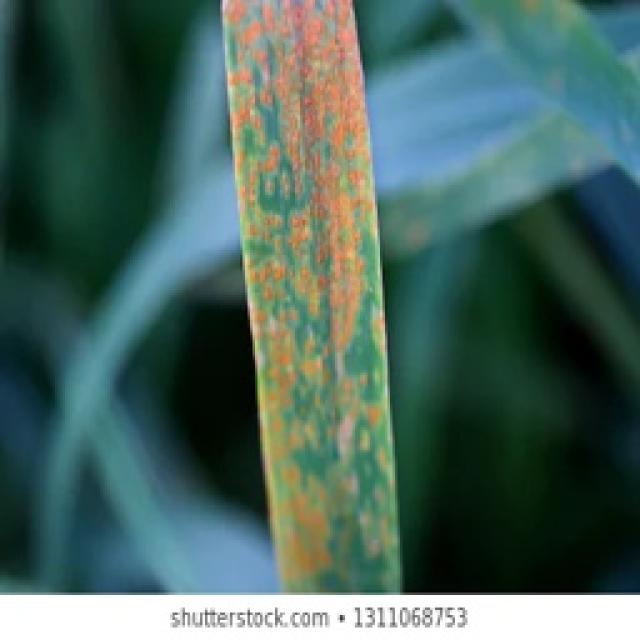Healthy Wheat: (217, 0, 404, 592)
